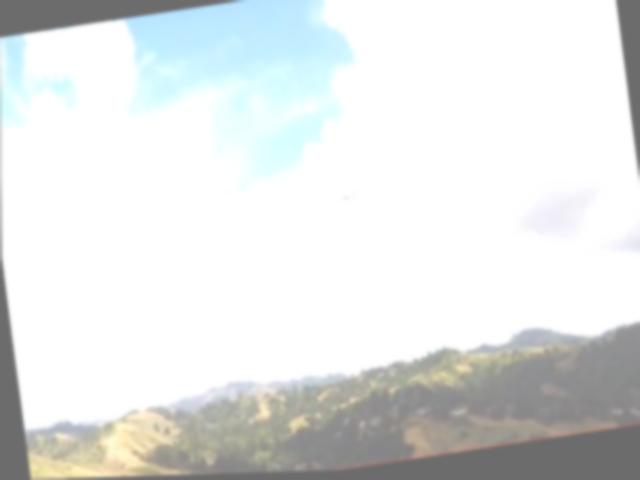iha: (330, 183, 362, 209)
